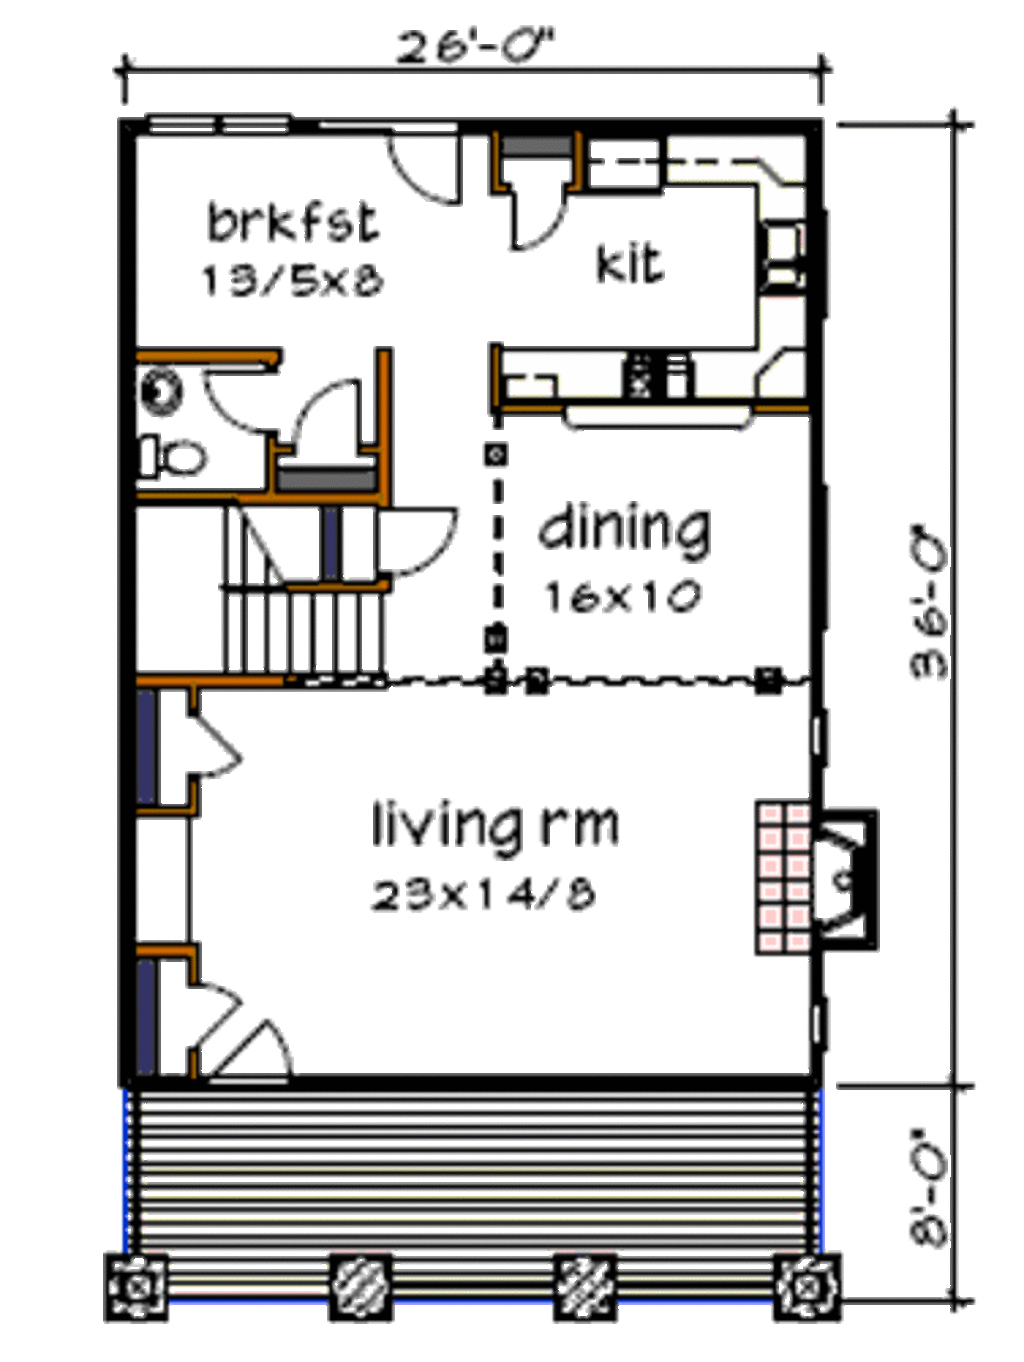door: (276, 360, 374, 462), (381, 119, 466, 219), (498, 178, 583, 265), (366, 503, 457, 582), (204, 1018, 302, 1084), (195, 358, 278, 435), (170, 973, 242, 1048), (177, 718, 251, 782)
large_sink: (132, 432, 217, 488)
small_sink: (134, 350, 183, 414)
stairs: (127, 505, 383, 684)
twin_sink: (746, 207, 829, 303)
window: (142, 103, 287, 152)
